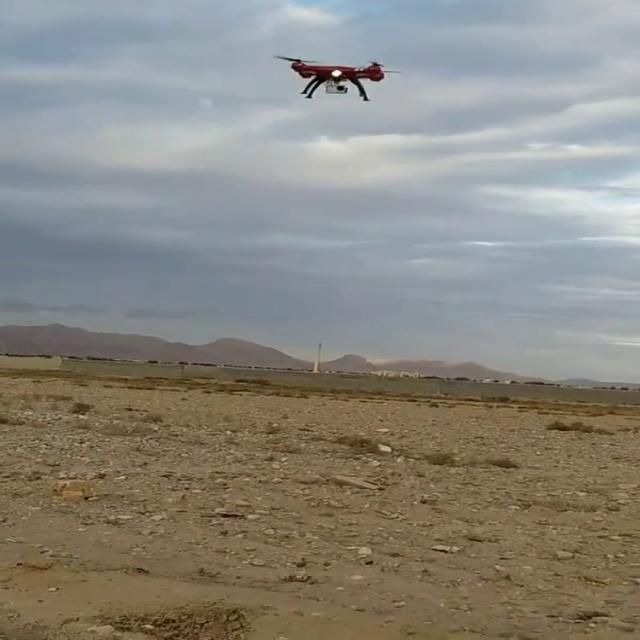drone: (270, 51, 405, 102)
